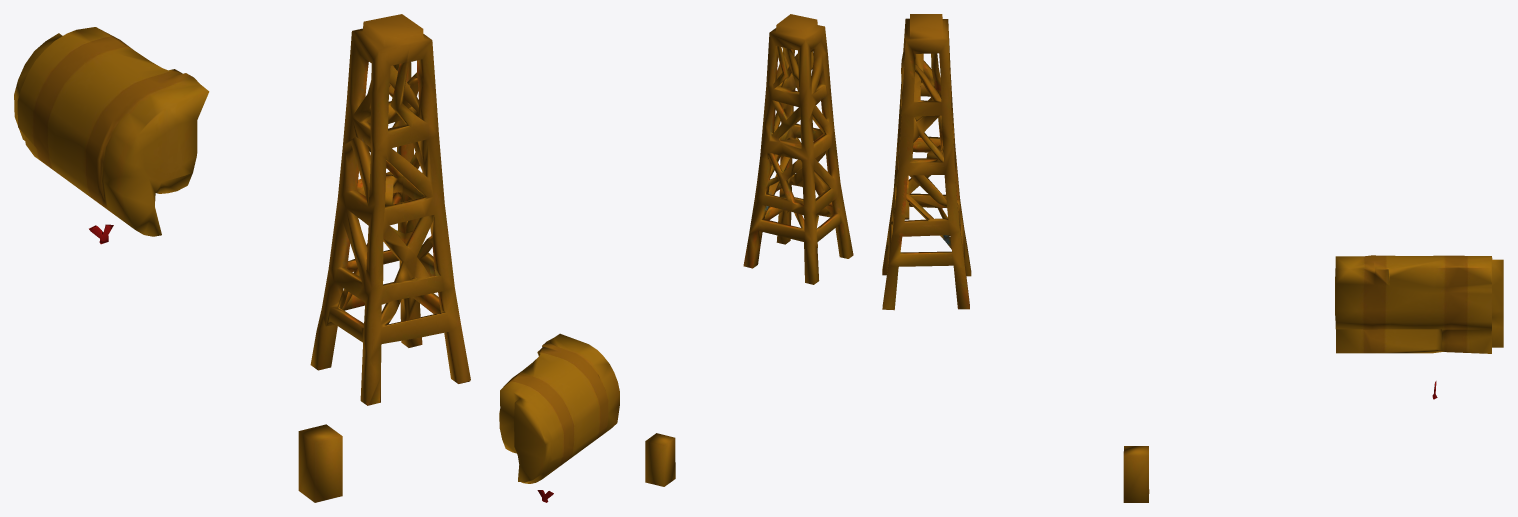
Rendered from Adornos.fbx.
3 views of the same model, side by side, from view 1: azimuth 30°, elevation 25°; view 2: azimuth 150°, elevation 25°; view 3: azimuth 270°, elevation 25° (orthographic). The views are drawn at different scales.
Parts seen in each view (by area): view 1: tripo_node_79f423f4; view 2: tripo_node_79f423f4; view 3: tripo_node_79f423f4.
Part boxes in pixels (x1=…): tripo_node_79f423f4: x1=14, y1=14, x2=470, y2=502; tripo_node_79f423f4: x1=499, y1=14, x2=853, y2=502; tripo_node_79f423f4: x1=882, y1=14, x2=1503, y2=502.
Size of the model in its own units: 0.1961 by 0.8035 by 0.9999.
1 material, 1 textured.
